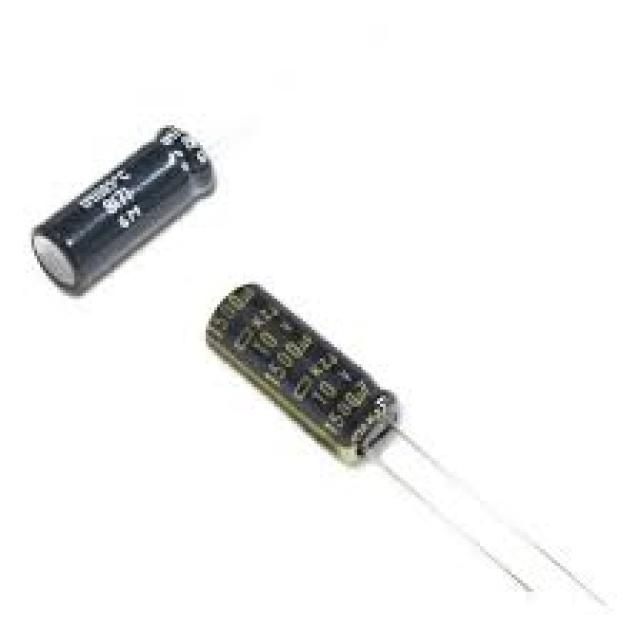Capacitor: (206, 284, 614, 614), (31, 125, 214, 299), (391, 469, 537, 600)
